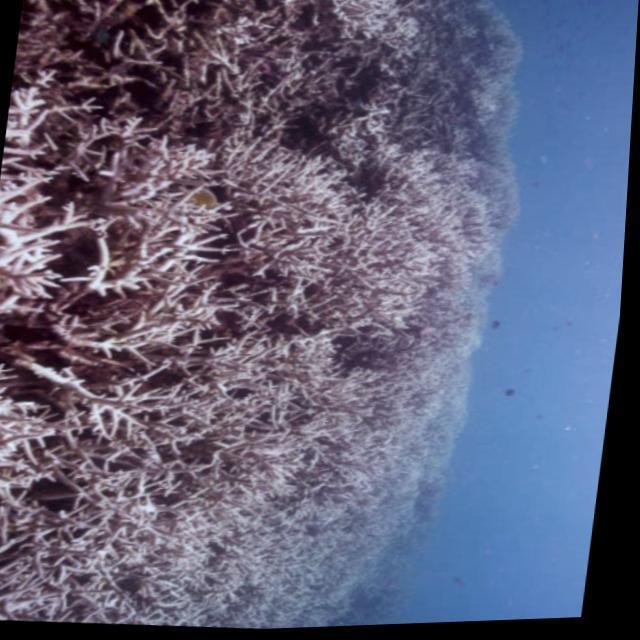Dead Coral: (0, 0, 478, 621)
